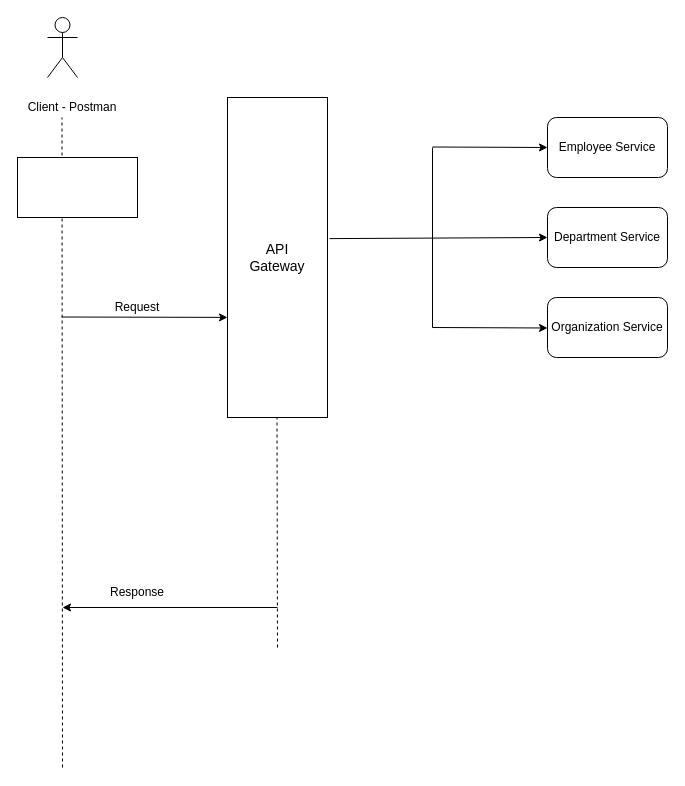
Image size: 685x786. Some labels were removed from this diagram. The centre of each missing label's shape, as x and y in pixels:
Actor: the point at 62,47
Another Microservice: the point at 77,187
